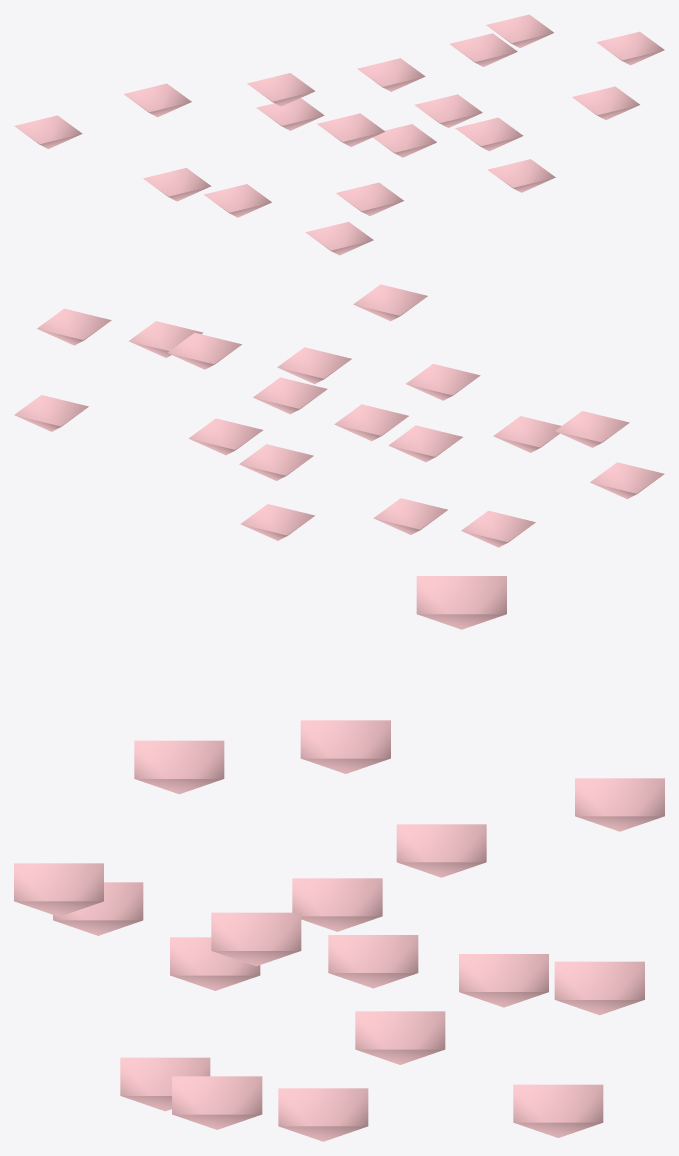
3 views of the same model, one above another, from view 1: azimuth 30°, elevation 25°; view 2: azimuth 150°, elevation 25°; view 3: azimuth 270°, elevation 25° (orthographic). The views are drawn at different scales.
Parts seen in each view (by area): view 1: Object17; view 2: Object17; view 3: Object17.
Part boxes in pixels (box(x1,y1,x2,y2)): Object17: box(14, 14, 664, 255); Object17: box(14, 284, 664, 547); Object17: box(14, 576, 664, 1141).
Size of the model in its own units: 150 by 28.14 by 80.64.
